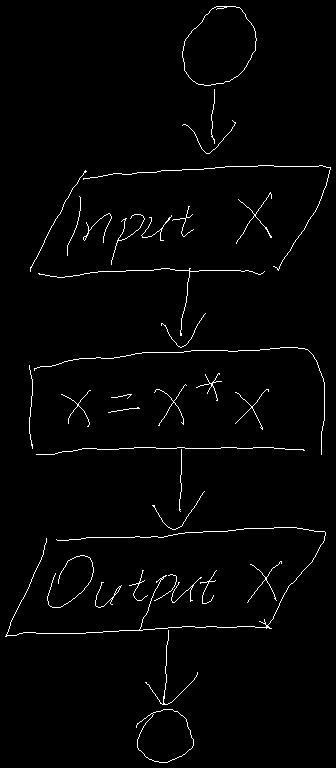arrow: (152, 449, 204, 529), (145, 630, 197, 704), (161, 268, 205, 347), (182, 89, 235, 153)
connection: (182, 6, 256, 85), (136, 709, 193, 762)
data: (5, 527, 325, 636), (30, 165, 330, 277)
process: (29, 347, 324, 454)
text: (47, 555, 281, 630), (67, 192, 271, 264), (61, 373, 268, 429)
